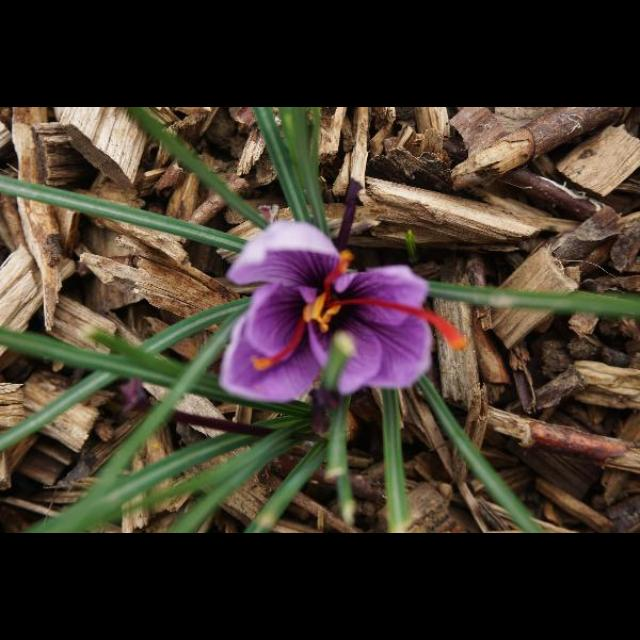flower: (218, 222, 464, 402)
